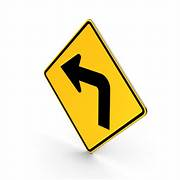left: (44, 17, 148, 152)
